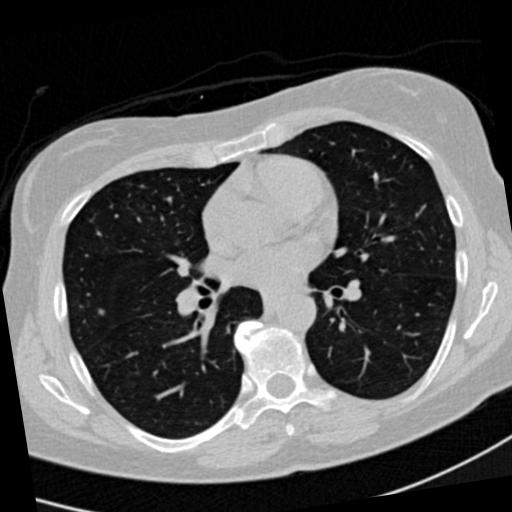nodule: (94, 305, 108, 319)
